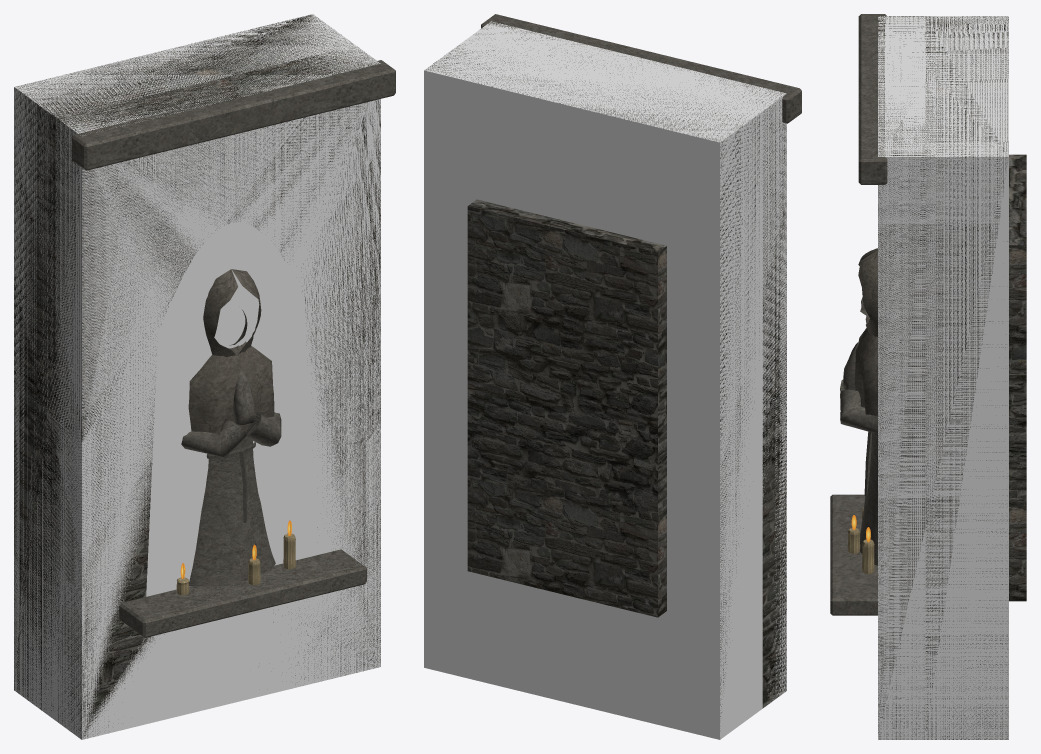
File: wall_niche_saint_v1.glb
The picture shows the model from 3 angles, left to right: view 1: azimuth 30°, elevation 25°; view 2: azimuth 150°, elevation 25°; view 3: azimuth 270°, elevation 25°; orthographic projection. The views are drawn at different scales.
Visible parts, largest first — view 1: col_niche, niche; view 2: col_niche, niche; view 3: col_niche, niche.
Part boxes in pixels (x1,y1,x2,y2): col_niche: (14,14,380,739); niche: (14,14,395,739); col_niche: (424,21,786,739); niche: (425,14,801,722); col_niche: (878,16,1008,739); niche: (830,14,1026,739).
Bounding box in the file's own units: 1.46 × 2.7 × 0.825.
Materials: 7 (7 with a texture image).
